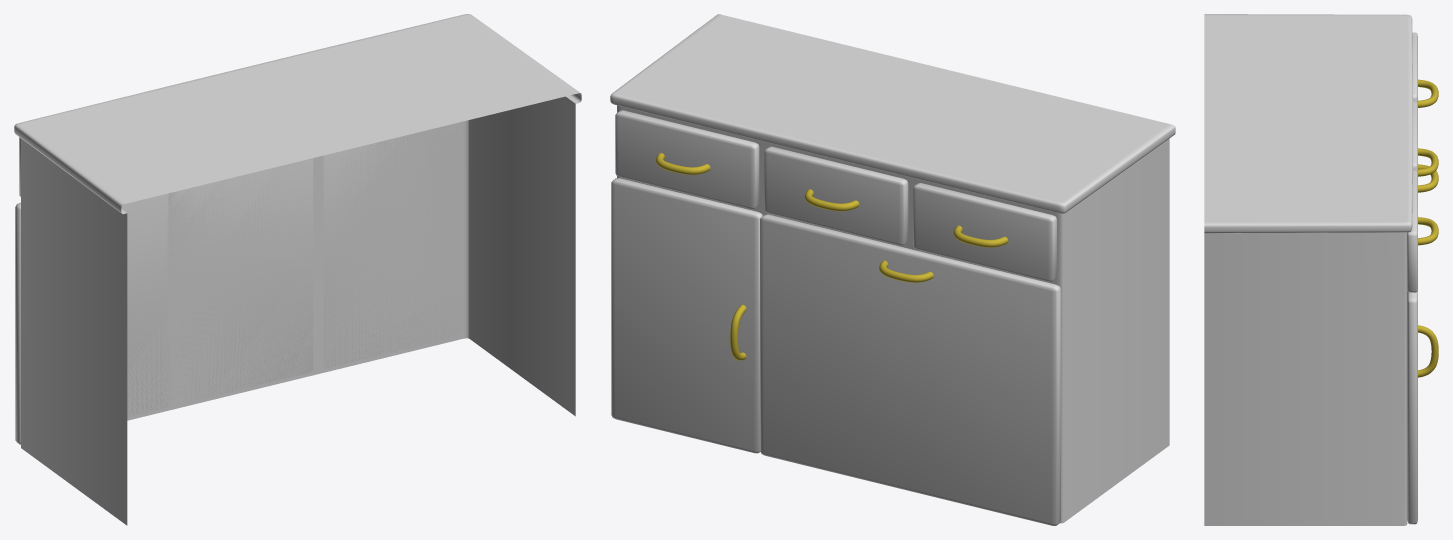
The model's file is Shelf(1).fbx.
3 views of the same model, side by side, from view 1: azimuth 30°, elevation 25°; view 2: azimuth 150°, elevation 25°; view 3: azimuth 270°, elevation 25° (orthographic). The views are drawn at different scales.
Visible parts, largest first — view 1: Cube; view 2: Cube; view 3: Cube, NurbsPath.001, NurbsPath.002, NurbsPath.004, NurbsPath.003.
Part boxes in pixels (x1=…): Cube: x1=14, y1=14, x2=581, y2=525; Cube: x1=610, y1=14, x2=1175, y2=525; Cube: x1=1204, y1=14, x2=1417, y2=525; NurbsPath.001: x1=1418, y1=325, x2=1438, y2=377; NurbsPath.002: x1=1418, y1=217, x2=1438, y2=245; NurbsPath.004: x1=1418, y1=148, x2=1438, y2=176; NurbsPath.003: x1=1418, y1=79, x2=1438, y2=107.
Size of the model in its own units: 123 by 82.51 by 57.74.
